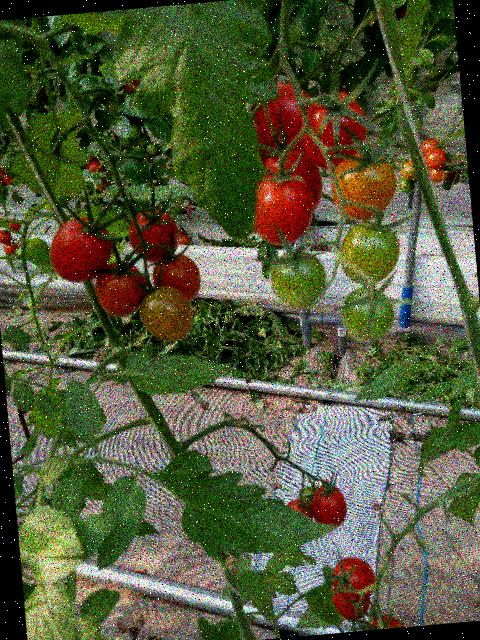l_fully_ripened: (296, 90, 370, 174), (250, 172, 316, 248), (250, 79, 319, 150), (45, 214, 114, 285), (261, 142, 324, 212), (126, 206, 182, 264), (330, 554, 378, 604), (309, 483, 348, 530), (330, 579, 372, 622), (361, 612, 407, 631), (284, 498, 313, 522), (424, 147, 446, 170), (420, 137, 440, 155), (2, 240, 18, 254), (0, 228, 12, 243)
l_green: (336, 219, 403, 288), (268, 248, 329, 311), (338, 283, 396, 343), (295, 485, 320, 510), (397, 176, 415, 194), (126, 123, 143, 140), (135, 132, 151, 147), (145, 141, 158, 155), (120, 136, 134, 148)
l_half_ripened: (327, 149, 398, 223), (137, 282, 194, 343), (93, 259, 149, 319), (150, 253, 203, 304), (428, 165, 448, 183), (399, 160, 416, 180)
